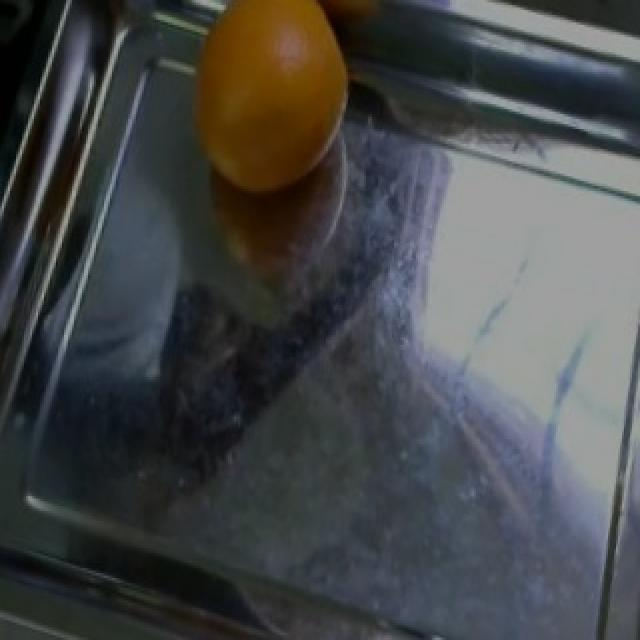Fruit: (166, 0, 374, 221)
